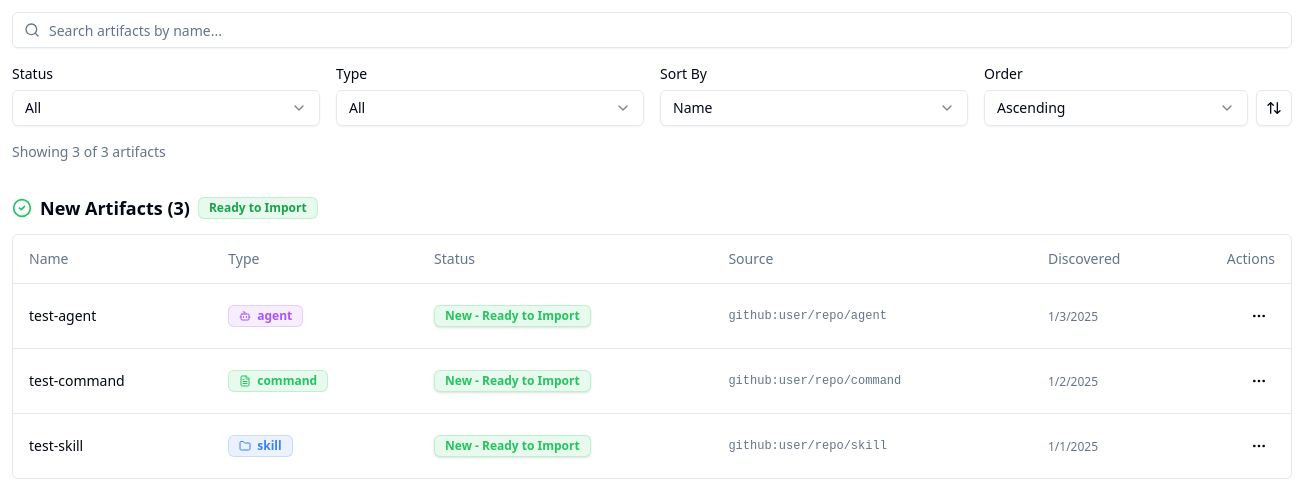
Test: DiscoveryTab Accessibility › Screen Reader Support › should announce empty filter results
// Search for non-existent artifact
Step 1. Type "nonexistent" into the field with placeholder "Search artifacts by name..." → (652, 30), box [12,12,1292,48]
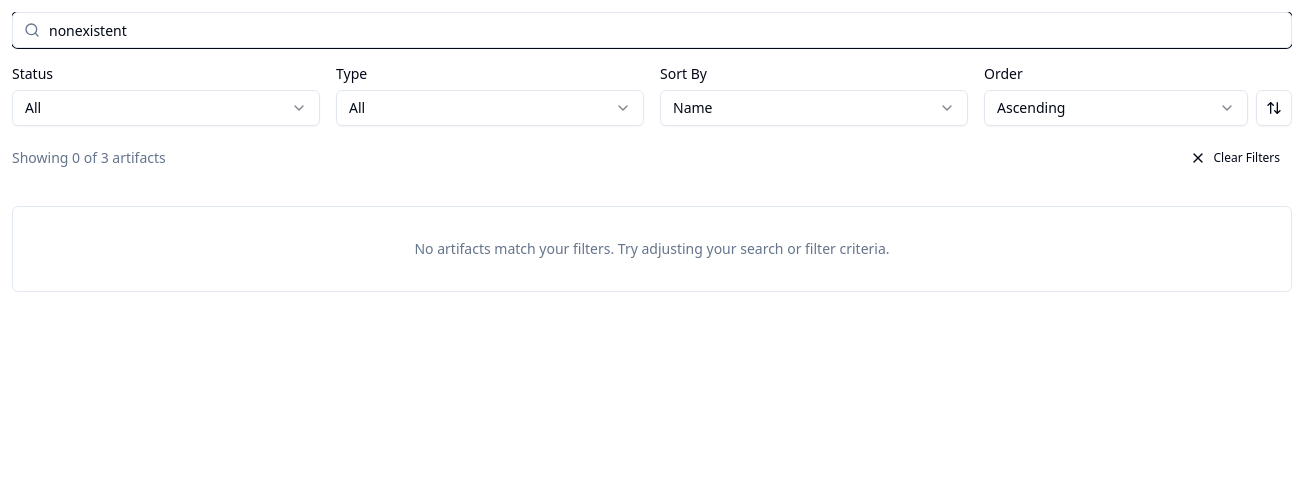
Check: the text "No artifacts match your filters" is shown, box [414,239,890,258]
